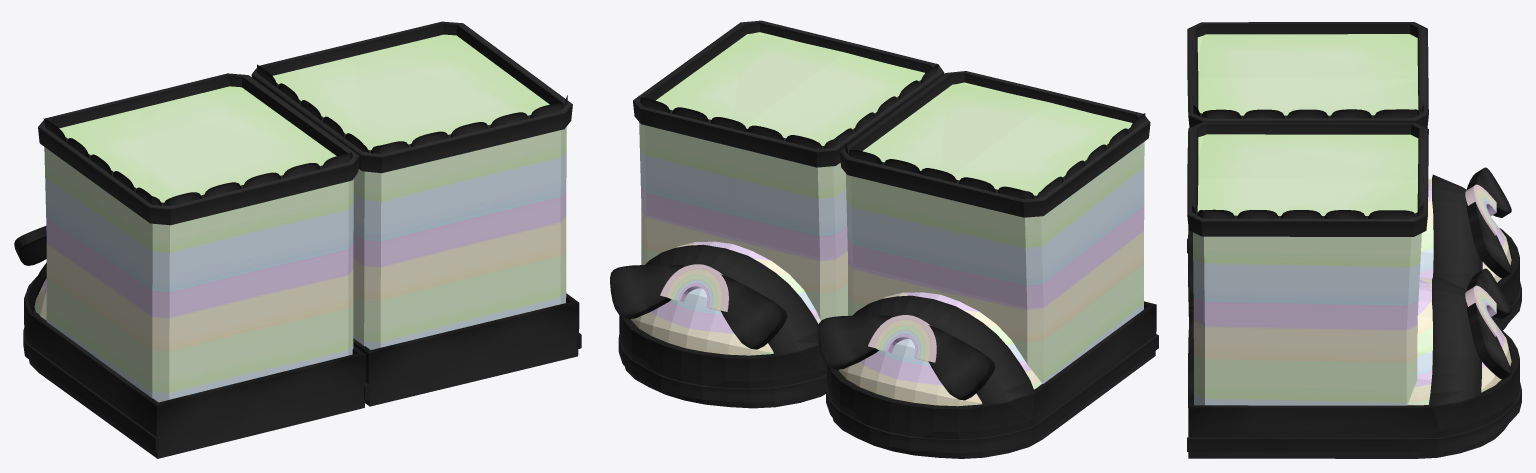
The picture shows the model from 3 angles, left to right: view 1: azimuth 30°, elevation 25°; view 2: azimuth 150°, elevation 25°; view 3: azimuth 270°, elevation 25°; orthographic projection. The views are drawn at different scales.
Visible parts, largest first — view 1: geometry_0; view 2: geometry_0; view 3: geometry_0.
Part boxes in pixels (<box>): geometry_0: <box>14,21,581,458</box>; geometry_0: <box>610,20,1158,458</box>; geometry_0: <box>1187,22,1521,458</box>.
Bounding box in the file's own units: 1.4 × 0.803 × 0.9842.
Materials: 1 (1 with a texture image).
